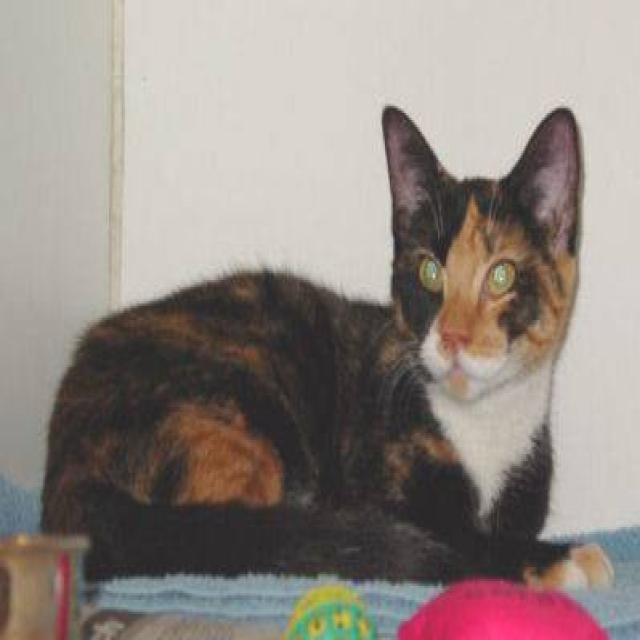Kucing: (40, 58, 606, 596)
